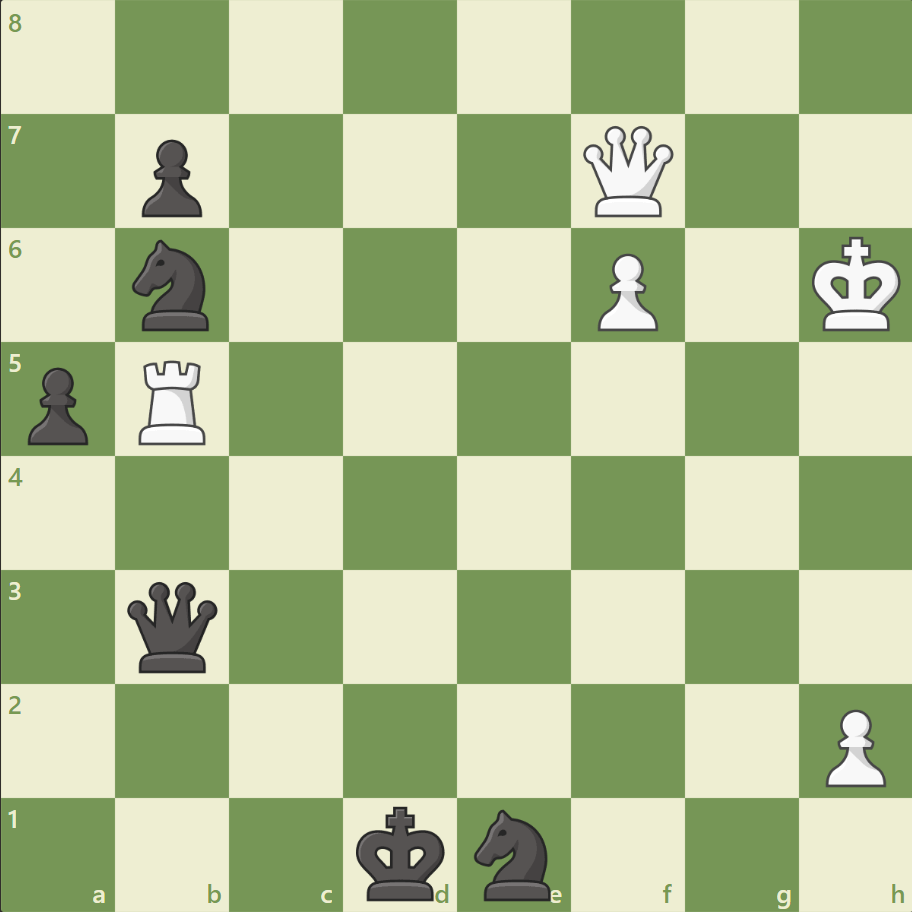K: (806, 231, 906, 339)
P: (588, 246, 662, 337), (815, 700, 889, 791)
Q: (578, 122, 677, 222)
R: (133, 352, 215, 449)
k: (351, 798, 451, 906)
n: (124, 234, 222, 337), (465, 802, 562, 904)
p: (133, 132, 208, 223), (20, 359, 95, 450)
q: (124, 576, 223, 676)
